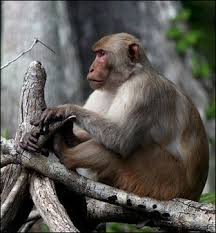monkey: (14, 9, 204, 218)
